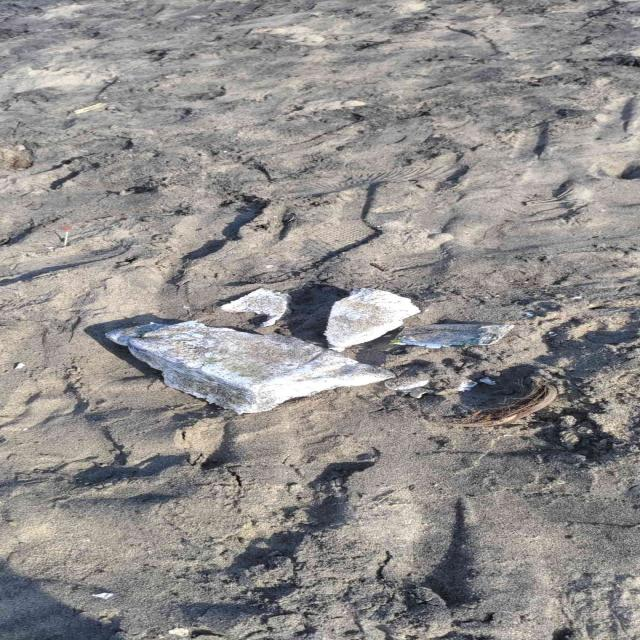biowaste: (444, 382, 558, 428)
styrofoam: (103, 289, 419, 414), (218, 289, 288, 326)
